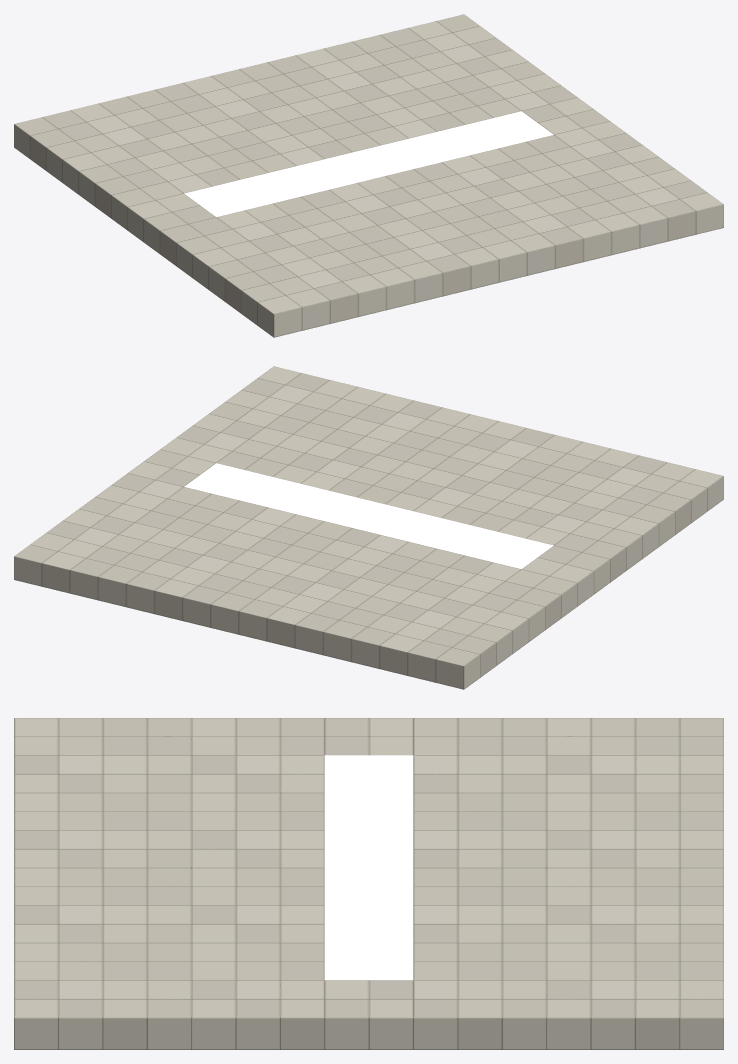
The model's file is MOD_46_Ceiling_Recessed.glb.
3 views of the same model, one above another, from view 1: azimuth 30°, elevation 25°; view 2: azimuth 150°, elevation 25°; view 3: azimuth 270°, elevation 25° (orthographic). The views are drawn at different scales.
Parts seen in each view (by area): view 1: MOD_46_Ceiling_Recessed_Export; view 2: MOD_46_Ceiling_Recessed_Export; view 3: MOD_46_Ceiling_Recessed_Export.
Boxes of the visible parts, x1,y1,x2,y2 form: MOD_46_Ceiling_Recessed_Export: (14,14,723,337); MOD_46_Ceiling_Recessed_Export: (14,366,723,689); MOD_46_Ceiling_Recessed_Export: (14,718,723,1049).
Bounding box in the file's own units: 4 × 0.2 × 4.
2 materials, 1 textured.
